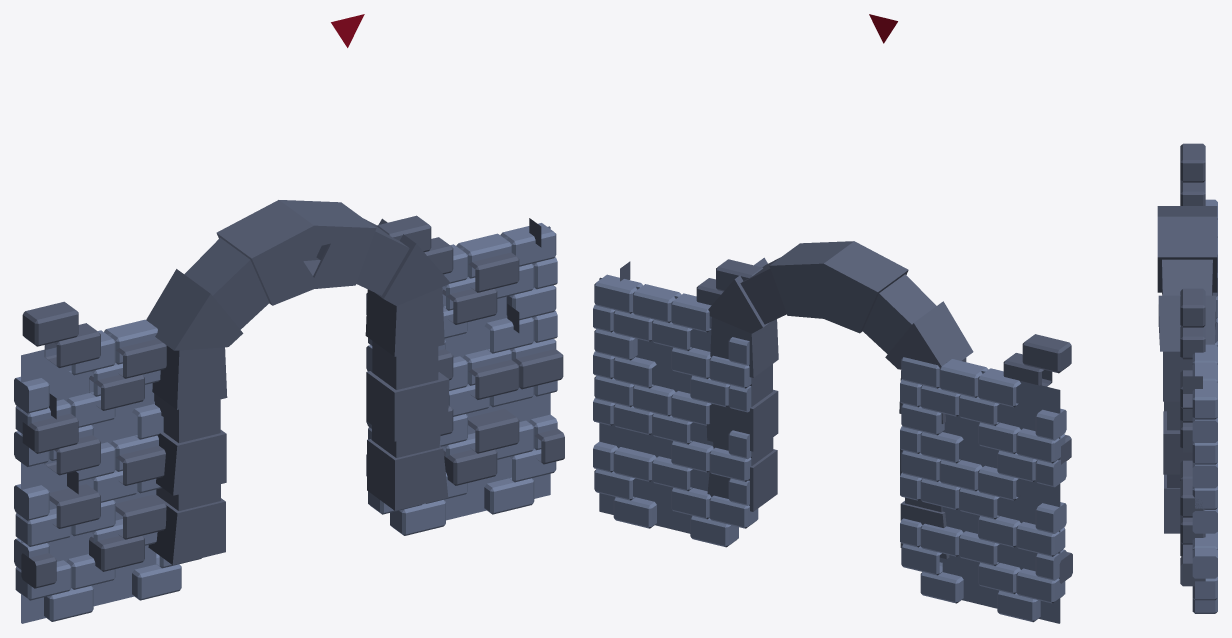
The model's file is brick-wall-with-bars.glb.
3 renders of one model, left to right at view 1: azimuth 30°, elevation 25°; view 2: azimuth 150°, elevation 25°; view 3: azimuth 270°, elevation 25°, orthographic. The views are drawn at different scales.
Visible parts, largest first — view 1: brick wall with bars; view 2: brick wall with bars; view 3: brick wall with bars.
Part boxes in pixels (x1,y1,x2,y2): brick wall with bars: [14, 14, 564, 623]; brick wall with bars: [593, 14, 1072, 623]; brick wall with bars: [1157, 143, 1217, 613].
Size of the model in its own units: 2 by 2.12 by 0.4544.
